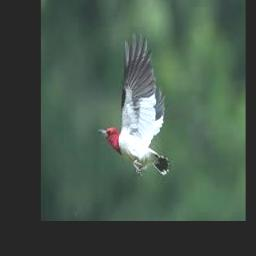Woodpecker: (98, 32, 173, 176)
